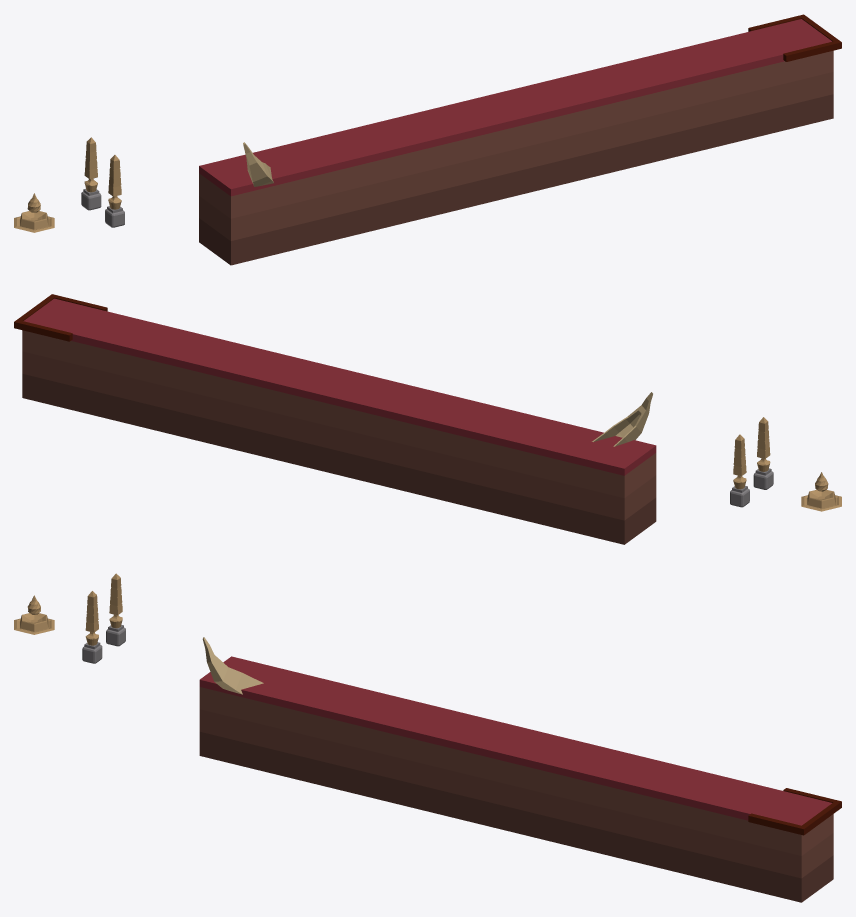
File: Fase_3fbx.fbx
3 renders of one model, top to bottom at view 1: azimuth 30°, elevation 25°; view 2: azimuth 150°, elevation 25°; view 3: azimuth 330°, elevation 25°, orthographic.
Visible parts, largest first — view 1: Plane.059, Plane.058, Pilar_2, Pilar_1, Circle, Barco, Cube; view 2: Plane.059, Plane.058, Barco, Pilar_1, Pilar_2, Circle, Cube.001; view 3: Plane.059, Plane.058, Barco, Pilar_1, Pilar_2, Circle.
Part boxes in pixels (left/top/right/bottom): Plane.059: left=199, top=50, right=833, bottom=265; Plane.058: left=199, top=19, right=831, bottom=196; Pilar_2: left=81, top=137, right=101, bottom=210; Pilar_1: left=105, top=155, right=124, bottom=227; Circle: left=14, top=211, right=54, bottom=232; Barco: left=243, top=142, right=273, bottom=186; Cube: left=783, top=40, right=841, bottom=61; Plane.059: left=22, top=330, right=656, bottom=544; Plane.058: left=23, top=298, right=656, bottom=475; Barco: left=592, top=392, right=652, bottom=446; Pilar_1: left=753, top=417, right=773, bottom=489; Pilar_2: left=730, top=434, right=749, bottom=507; Circle: left=801, top=489, right=841, bottom=511; Cube.001: left=14, top=319, right=72, bottom=341; Plane.059: left=199, top=687, right=833, bottom=902; Plane.058: left=199, top=656, right=831, bottom=825; Barco: left=202, top=637, right=263, bottom=694; Pilar_1: left=82, top=591, right=102, bottom=663; Pilar_2: left=106, top=573, right=125, bottom=646; Circle: left=14, top=613, right=54, bottom=634.
Bounding box in the file's own units: 11715 × 1870 × 1057.
